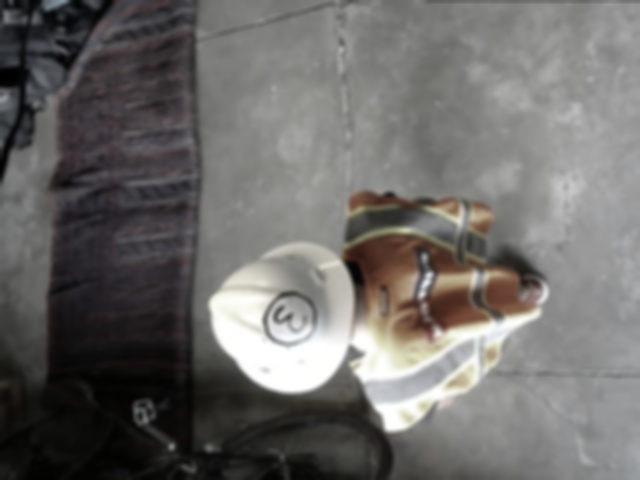three: (264, 289, 319, 348)
